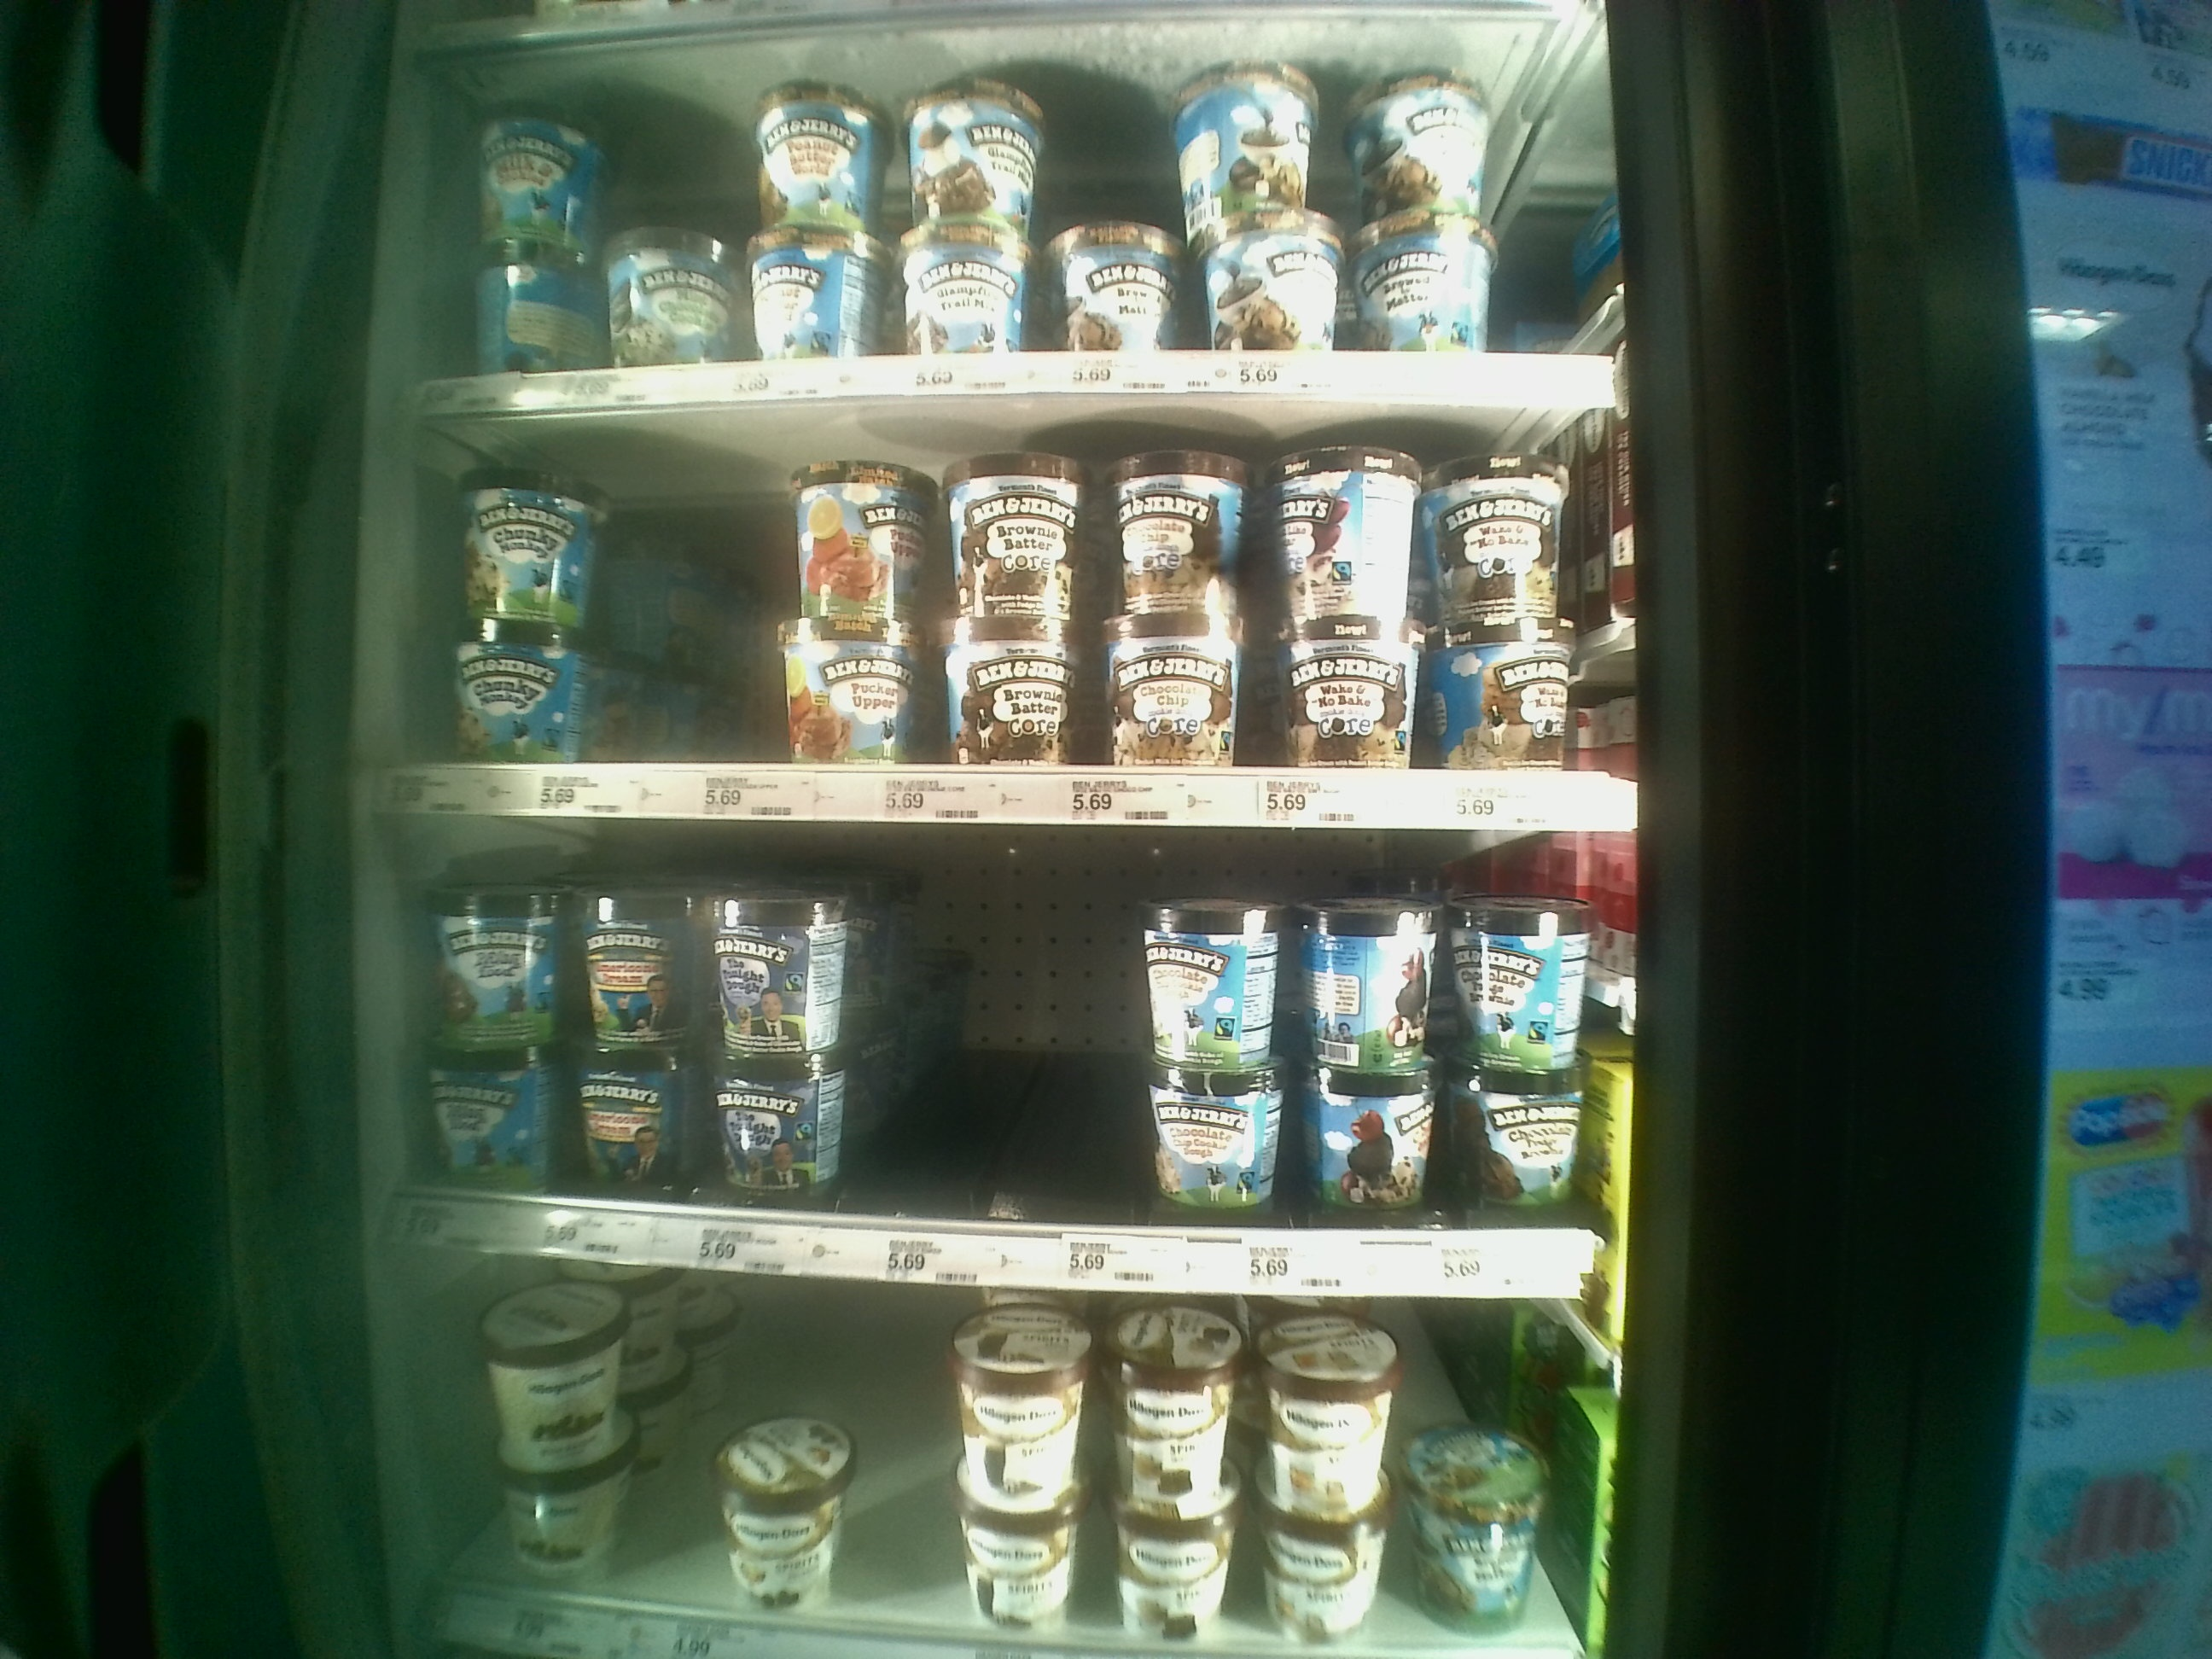ice-cream-shelf: (395, 831, 1629, 1274), (388, 392, 1630, 831)
